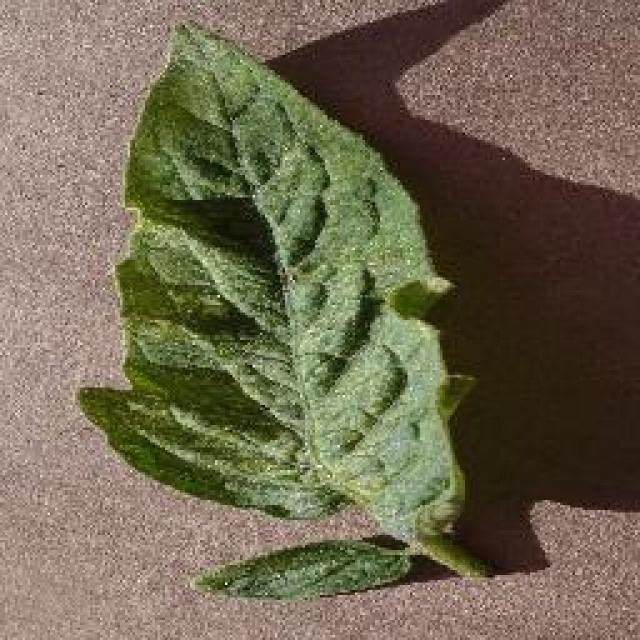Tomato mosaic virus leaf: (79, 23, 481, 535), (183, 536, 415, 602)
